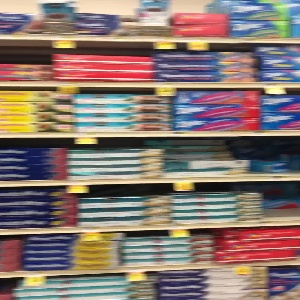void: (251, 138, 300, 177), (261, 184, 300, 221)
